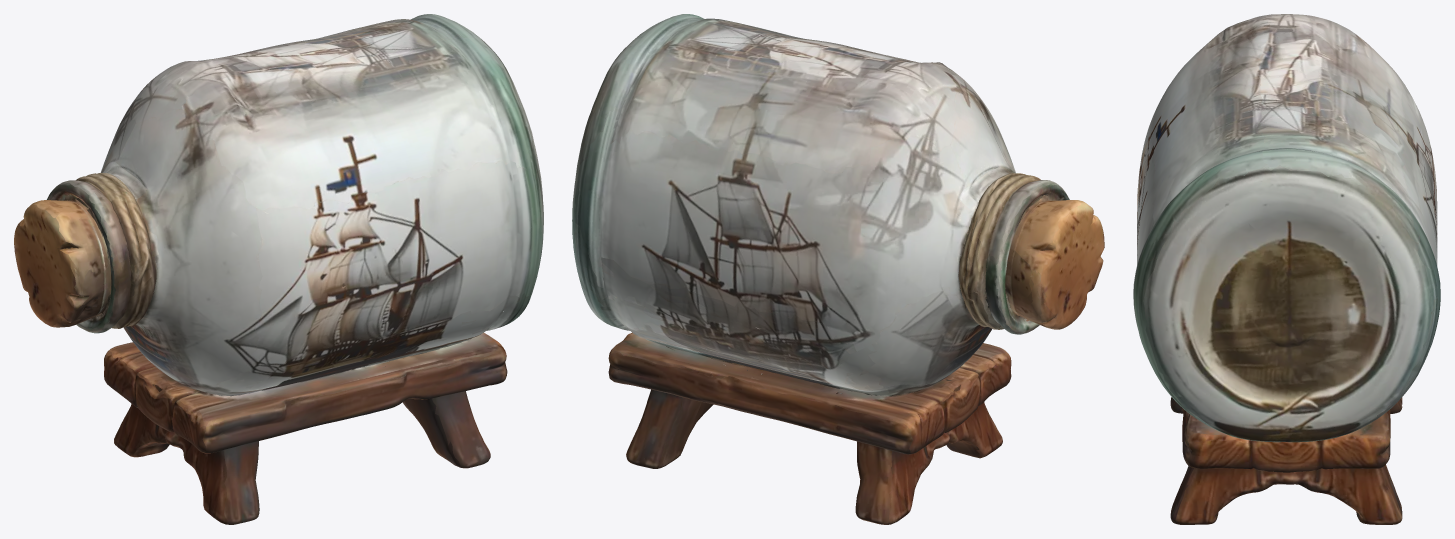
File: shipbottle-fixed.glb
3 views of the same model, side by side, from view 1: azimuth 30°, elevation 25°; view 2: azimuth 150°, elevation 25°; view 3: azimuth 270°, elevation 25° (orthographic).
Parts seen in each view (by area): view 1: geometry_0; view 2: geometry_0; view 3: geometry_0.
Boxes of the visible parts, x1,y1,x2,y2 form: geometry_0: [14, 14, 543, 524]; geometry_0: [572, 14, 1104, 524]; geometry_0: [1133, 14, 1440, 524].
Bounding box in the file's own units: 0.28 × 0.246 × 0.1709.
Materials: 1 (1 with a texture image).
